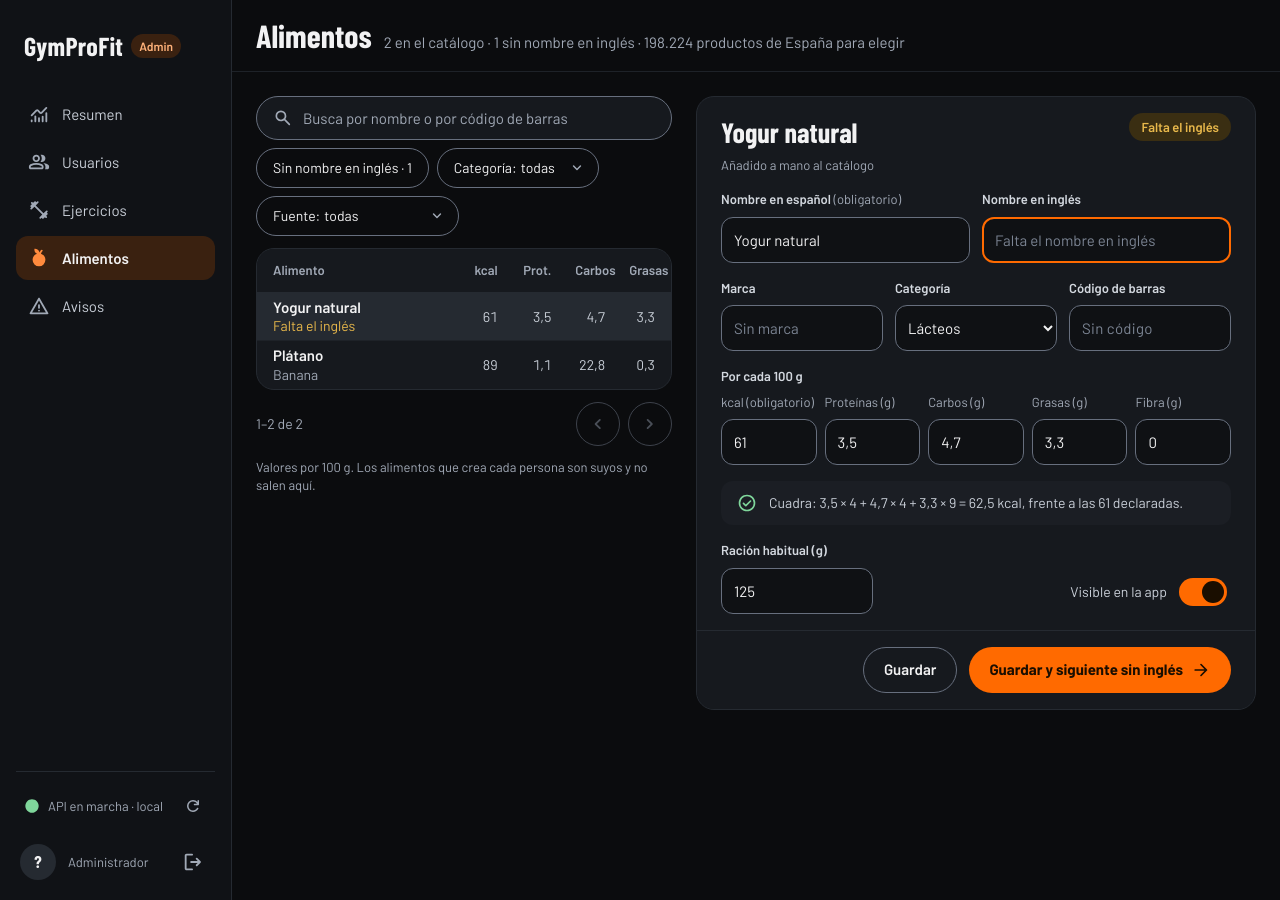
Test: Alimentos desde 1440 px: lista y editor juntos › sin cambios, elegir otra fila no pregunta
Click the button "Plátano Banana".
click(358, 365)  # box [273,343,444,387]
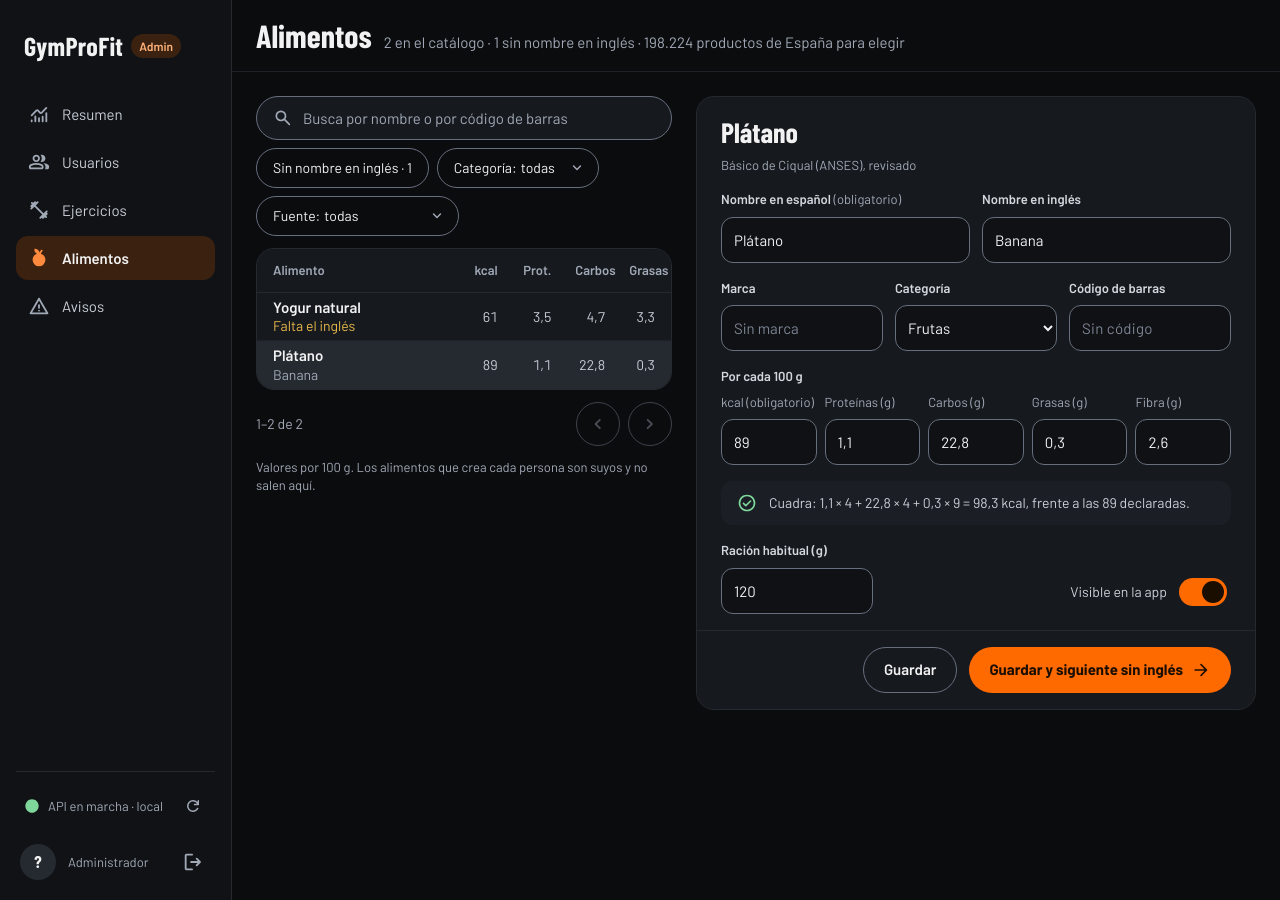
Expected: the heading "Plátano" is shown, [721,115,798,149]
